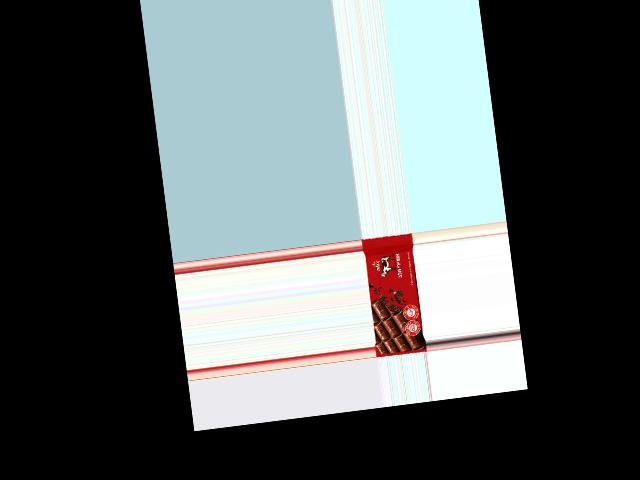chocolate: (362, 234, 427, 357)
